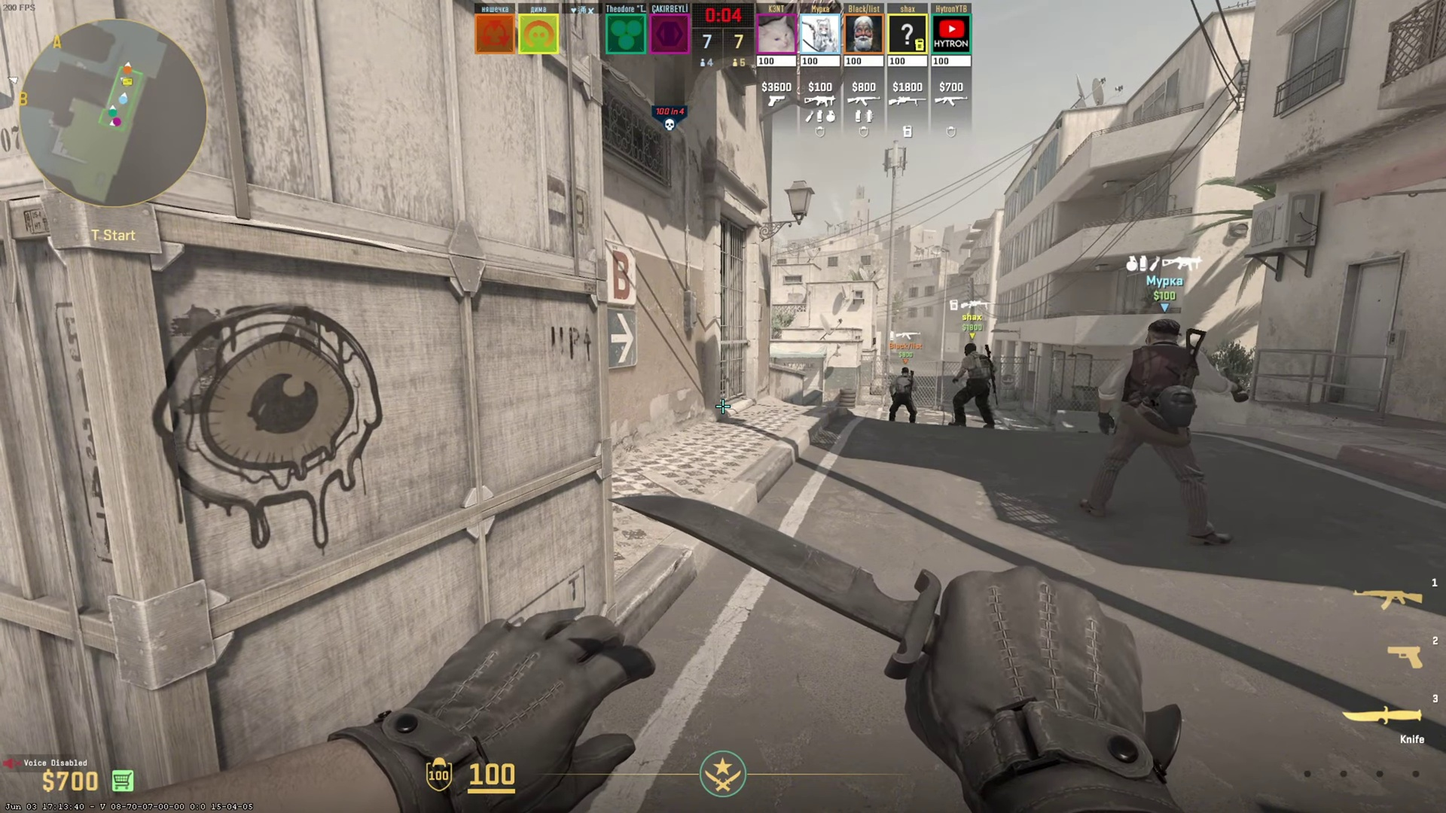Terrorist: (1092, 317, 1231, 547), (949, 343, 994, 428), (890, 367, 915, 424)
